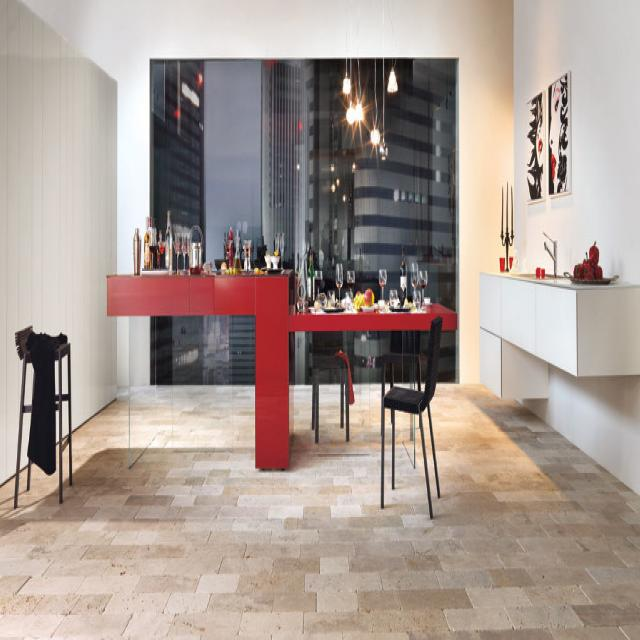chair: (382, 312, 442, 515), (14, 326, 72, 509), (309, 337, 352, 444)
desk: (294, 283, 438, 458)
